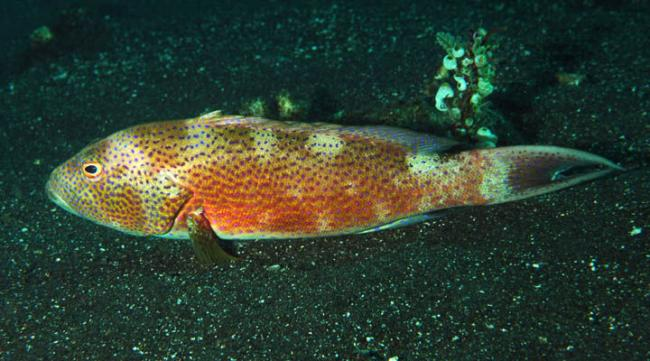fish: (44, 109, 625, 262)
